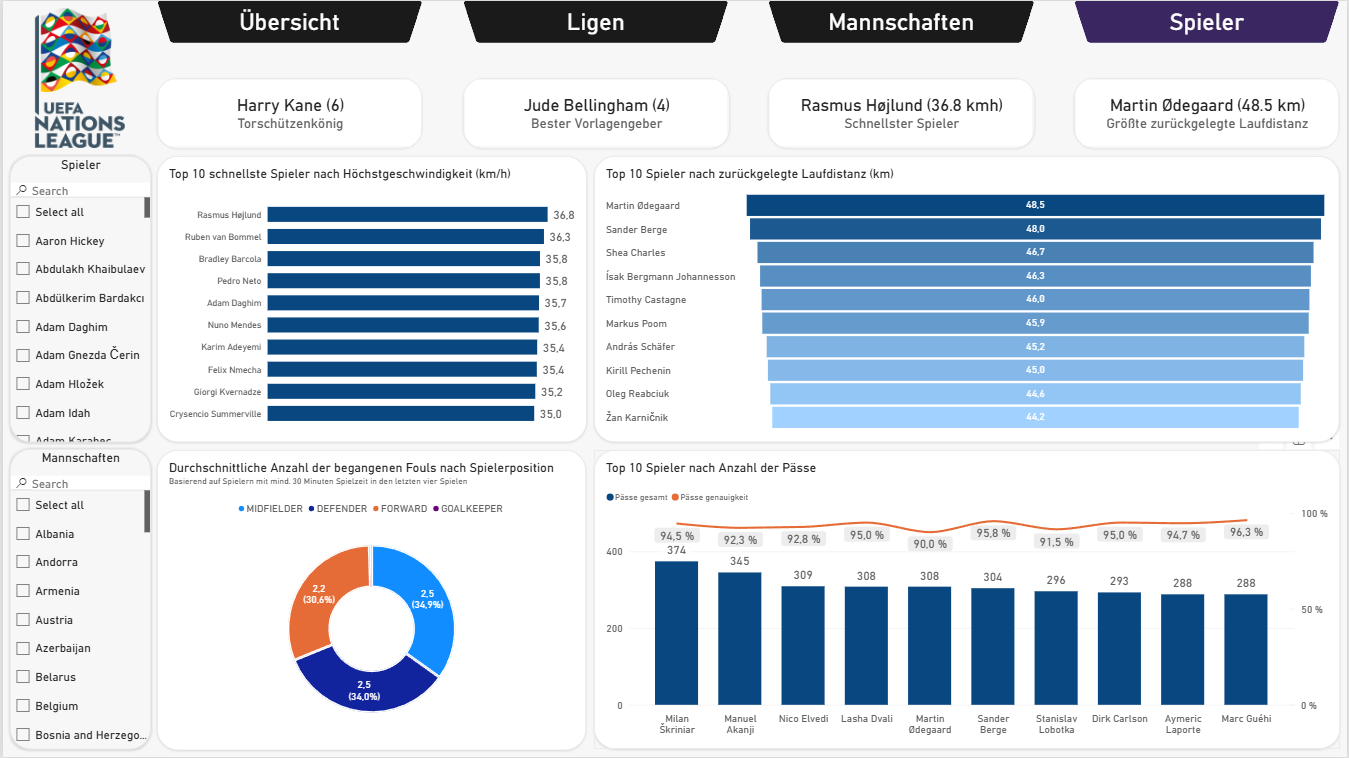

This screenshot's page, from the dashboard's own definition file:
{"tool":"powerbi","page":{"name":"Spieler","canvas":[1920,1080],"ordinal":3},"visuals":[{"type":"image","box":[10,10,200,200],"z":0},{"type":"cardVisual","fields":{"Data":["calculations.players_top_goalscorer"]},"box":[220.3,109.4,379.3,100.7],"z":1000},{"type":"cardVisual","fields":{"Data":["calculations.players_top_assistent"]},"box":[656.5,109.4,380.8,100.7],"z":2000},{"type":"cardVisual","fields":{"Data":["calculations.players_fastest_player"]},"box":[1092.8,109.4,380.8,100.7],"z":3000},{"type":"cardVisual","fields":{"Data":["calculations.players_workhorse"]},"box":[1530.5,109.4,379.3,100.7],"z":4000},{"type":"slicer","title":"Mannschaften","fields":{"Values":["dim_teams.team_name"]},"box":[9.6,640,200.5,429],"z":5000},{"type":"actionButton","box":[220,0,379.3,59.8],"z":6000},{"type":"actionButton","box":[1093.3,0,380.8,59.8],"z":7000},{"type":"actionButton","box":[1530,0,379.3,59.8],"z":8000},{"type":"actionButton","box":[656.7,0,379.3,59.8],"z":9000},{"type":"clusteredBarChart","title":"Top 10 schnellste Spieler nach Höchstgeschwindigkeit (km/h)","fields":{"Category":["players_summary.player_name"],"Y":["calculations.top_speed"]},"box":[219.7,221.4,614,408.7],"z":10000},{"type":"slicer","title":"Spieler","fields":{"Values":["players_summary.player_name"]},"box":[9.6,221.4,200.5,409],"z":11000},{"type":"lineClusteredColumnComboChart","title":"Top 10 Spieler nach Anzahl der Pässe","fields":{"Y":["calculations.players_total_passes"],"Y2":["calculations.players_pass_accuracy"],"Category":["players_summary.player_name"]},"box":[843.9,641,1066,427.3],"z":12000},{"type":"donutChart","title":"Durchschnittliche Anzahl der begangenen Fouls nach Spielerposition","fields":{"Category":["players_summary.position"],"Y":["calculations.players_avg_fouls_commited"]},"box":[219.8,641,613.4,428.9],"z":13000},{"type":"funnel","title":"Top 10 Spieler nach zurückgelegte Laufdistanz (km)","fields":{"Category":["players_summary.player_name"],"Y":["calculations.players_avg_distance_covered"]},"box":[843.9,221.4,1065.3,408.9],"z":14000}]}

Visuals, with their boxes on the page's 1920x1080 design canvas (x1, y1, x2, y2). These are canvas units, not pixel positions in the 1349x758 screenshot, which may show the page scaled, cropped or inside an application window:
image: x1=10, y1=10, x2=210, y2=210
cardVisual - calculations.players_top_goalscorer: x1=220, y1=109, x2=600, y2=210
cardVisual - calculations.players_top_assistent: x1=656, y1=109, x2=1037, y2=210
cardVisual - calculations.players_fastest_player: x1=1093, y1=109, x2=1474, y2=210
cardVisual - calculations.players_workhorse: x1=1530, y1=109, x2=1910, y2=210
"Mannschaften" slicer: x1=10, y1=640, x2=210, y2=1069
actionButton: x1=220, y1=0, x2=599, y2=60
actionButton: x1=1093, y1=0, x2=1474, y2=60
actionButton: x1=1530, y1=0, x2=1909, y2=60
actionButton: x1=657, y1=0, x2=1036, y2=60
"Top 10 schnellste Spieler nach Höchstgeschwindigkeit (km/h)" clusteredBarChart: x1=220, y1=221, x2=834, y2=630
"Spieler" slicer: x1=10, y1=221, x2=210, y2=630
"Top 10 Spieler nach Anzahl der Pässe" lineClusteredColumnComboChart: x1=844, y1=641, x2=1910, y2=1068
"Durchschnittliche Anzahl der begangenen Fouls nach Spielerposition" donutChart: x1=220, y1=641, x2=833, y2=1070
"Top 10 Spieler nach zurückgelegte Laufdistanz (km)" funnel: x1=844, y1=221, x2=1909, y2=630
